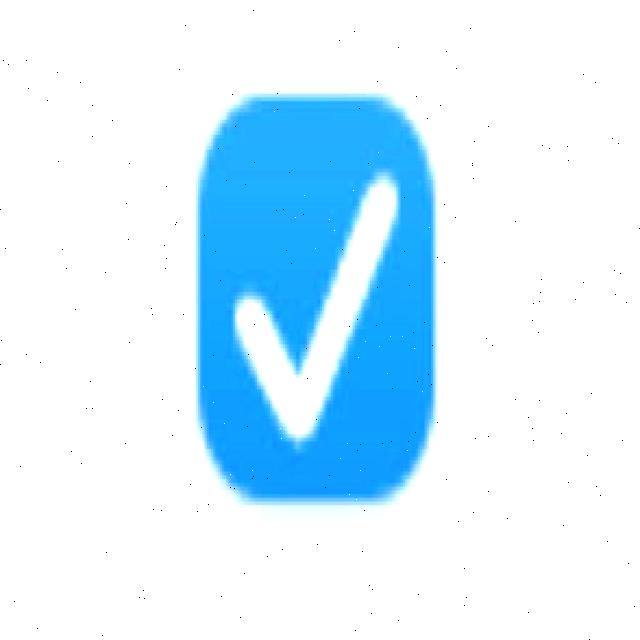checkbox: (198, 90, 438, 508)
